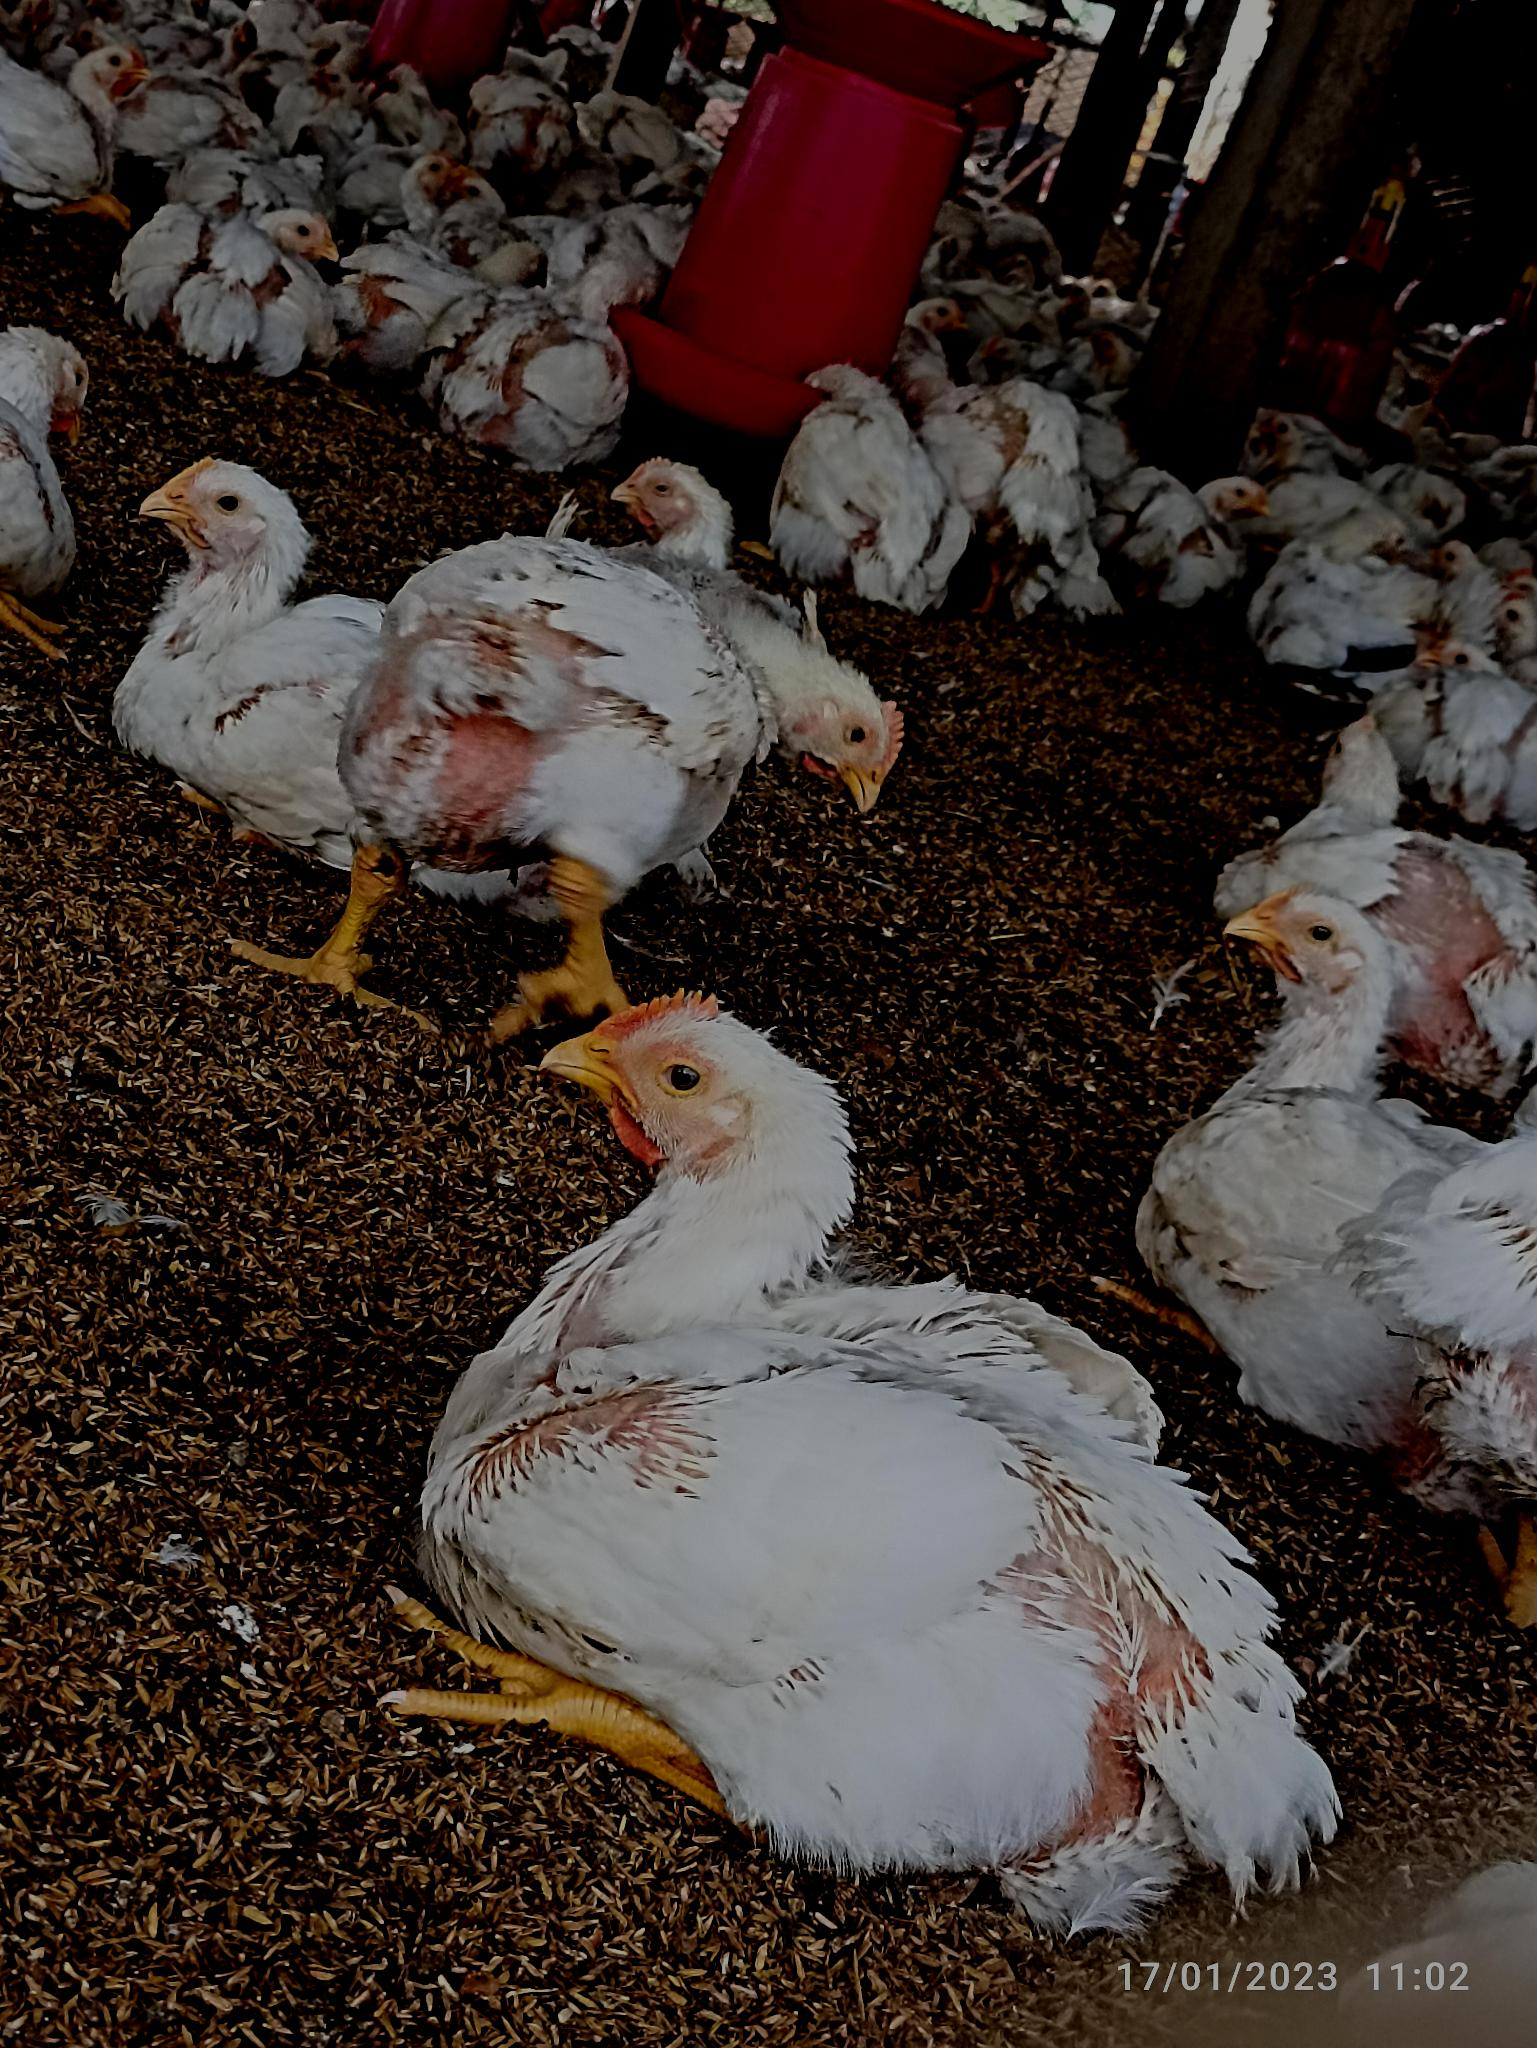Pollos: (478, 991, 1150, 1657), (1171, 891, 1537, 1386), (404, 542, 896, 897), (132, 457, 384, 818), (794, 282, 978, 604), (417, 261, 651, 483), (1371, 626, 1537, 813), (153, 189, 337, 357), (2, 39, 149, 187), (1120, 466, 1277, 599)
